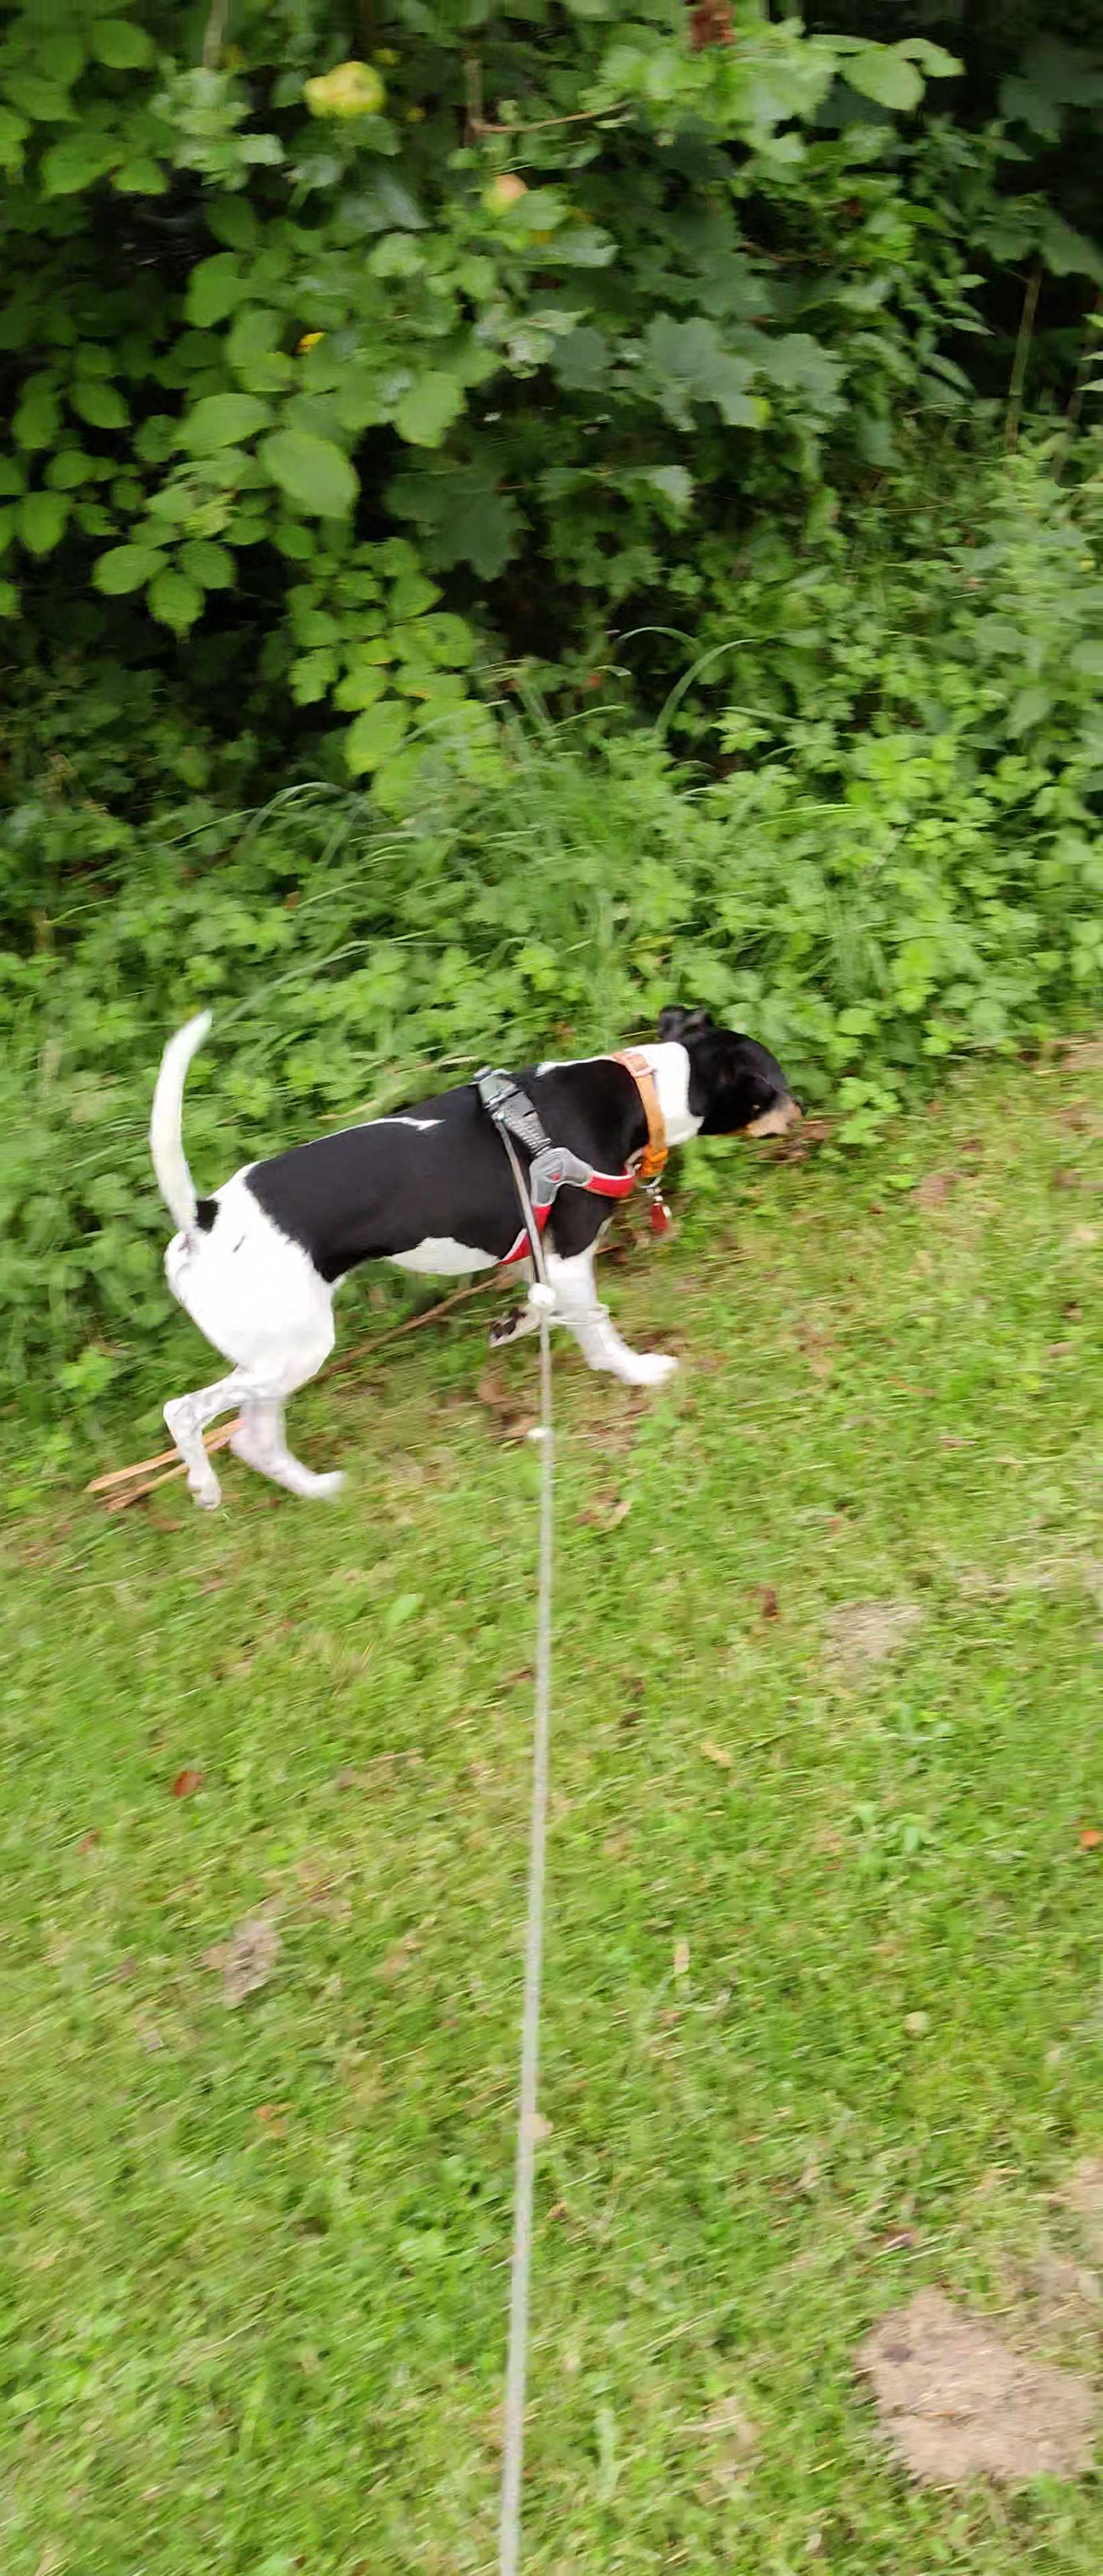Dog: (138, 1005, 805, 1515)
